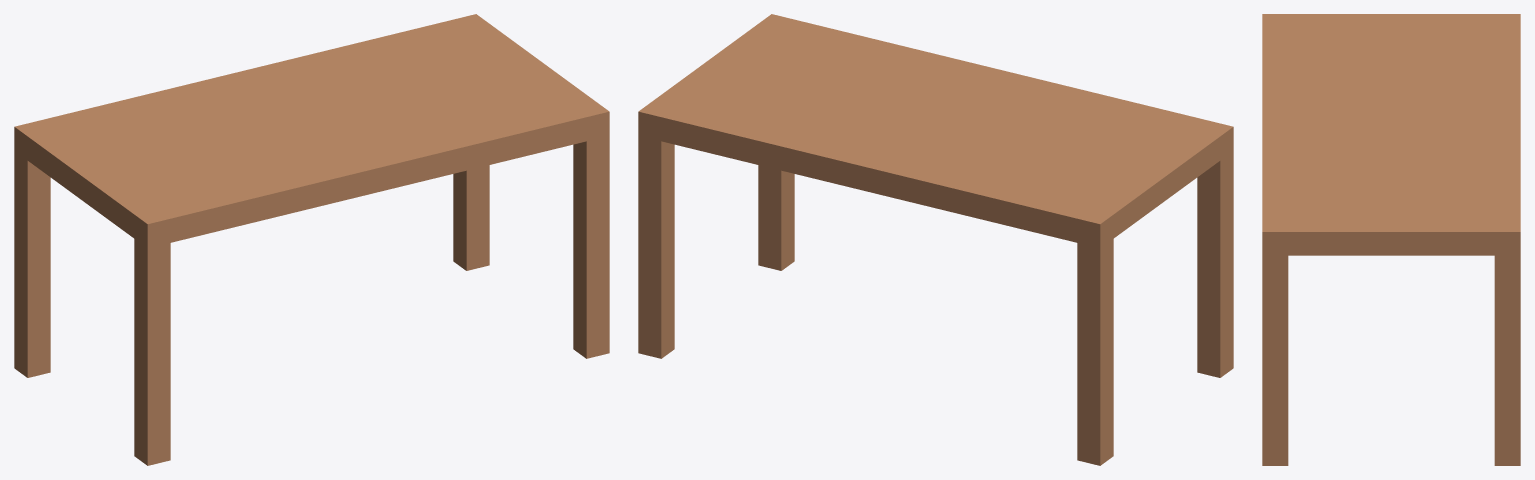
The model's file is ENV_Table_01.fbx.
The picture shows the model from 3 angles, left to right: view 1: azimuth 30°, elevation 25°; view 2: azimuth 150°, elevation 25°; view 3: azimuth 270°, elevation 25°; orthographic projection. The views are drawn at different scales.
Parts seen in each view (by area): view 1: ENV_Table_01; view 2: ENV_Table_01; view 3: ENV_Table_01.
Boxes of the visible parts, x1,y1,x2,y2 form: ENV_Table_01: [14, 14, 609, 465]; ENV_Table_01: [638, 14, 1233, 465]; ENV_Table_01: [1262, 14, 1520, 465].
Size of the model in its own units: 200 by 100 by 100.
